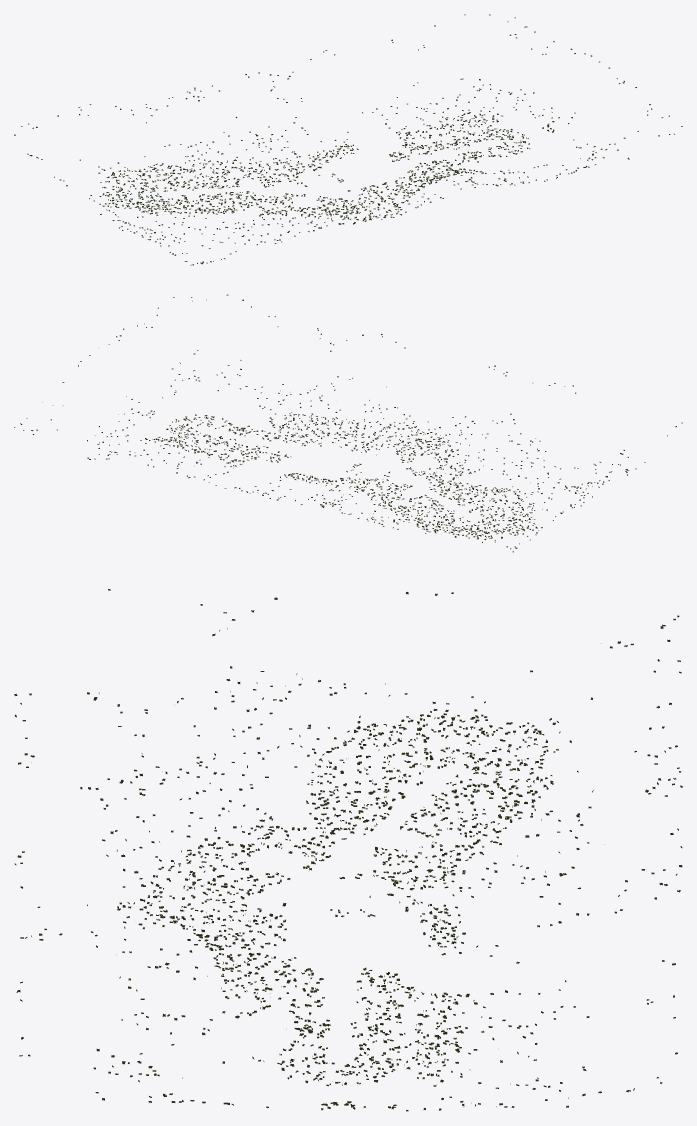
Rendered from SM_Art_Cover_L_HerrerasFall_GrassBlades.gltf.
3 views of the same model, one above another, from view 1: azimuth 30°, elevation 25°; view 2: azimuth 150°, elevation 25°; view 3: azimuth 270°, elevation 25° (orthographic). The views are drawn at different scales.
Parts seen in each view (by area): view 1: SM_Art_Cover_L_HerrerasFall_GrassBlades; view 2: SM_Art_Cover_L_HerrerasFall_GrassBlades; view 3: SM_Art_Cover_L_HerrerasFall_GrassBlades.
Part boxes in pixels (x1,y1,x2,y2): SM_Art_Cover_L_HerrerasFall_GrassBlades: (14, 14, 682, 265); SM_Art_Cover_L_HerrerasFall_GrassBlades: (14, 294, 682, 552); SM_Art_Cover_L_HerrerasFall_GrassBlades: (14, 589, 682, 1111).
Size of the model in its own units: 288 by 31.82 by 169.
Materials: 1 (1 with a texture image).
